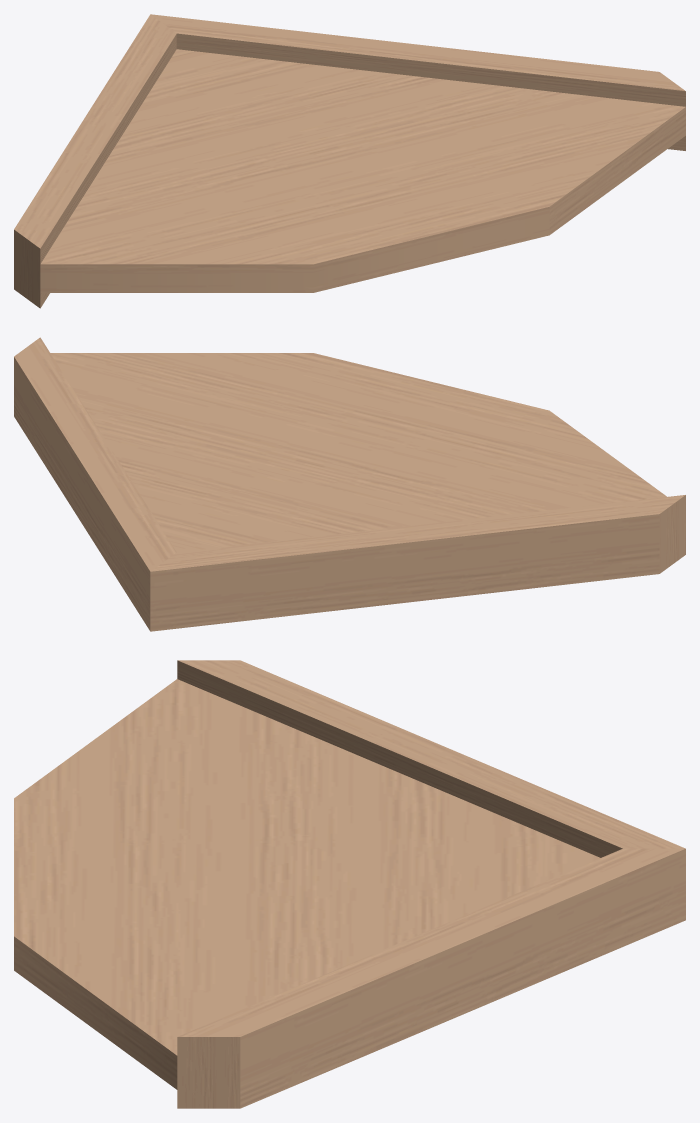
Rendered from Corner_Shelving_B_03.FBX.
The picture shows the model from 3 angles, top to bottom: view 1: azimuth 30°, elevation 25°; view 2: azimuth 150°, elevation 25°; view 3: azimuth 270°, elevation 25°; orthographic projection. The views are drawn at different scales.
Visible parts, largest first — view 1: Corner_Shelving_B; view 2: Corner_Shelving_B; view 3: Corner_Shelving_B.
Boxes of the visible parts, <box> form: Corner_Shelving_B: <box>14,14,685,308</box>; Corner_Shelving_B: <box>14,337,685,631</box>; Corner_Shelving_B: <box>14,660,685,1108</box>.
Bounding box in the file's own units: 141 × 12.55 × 107.
